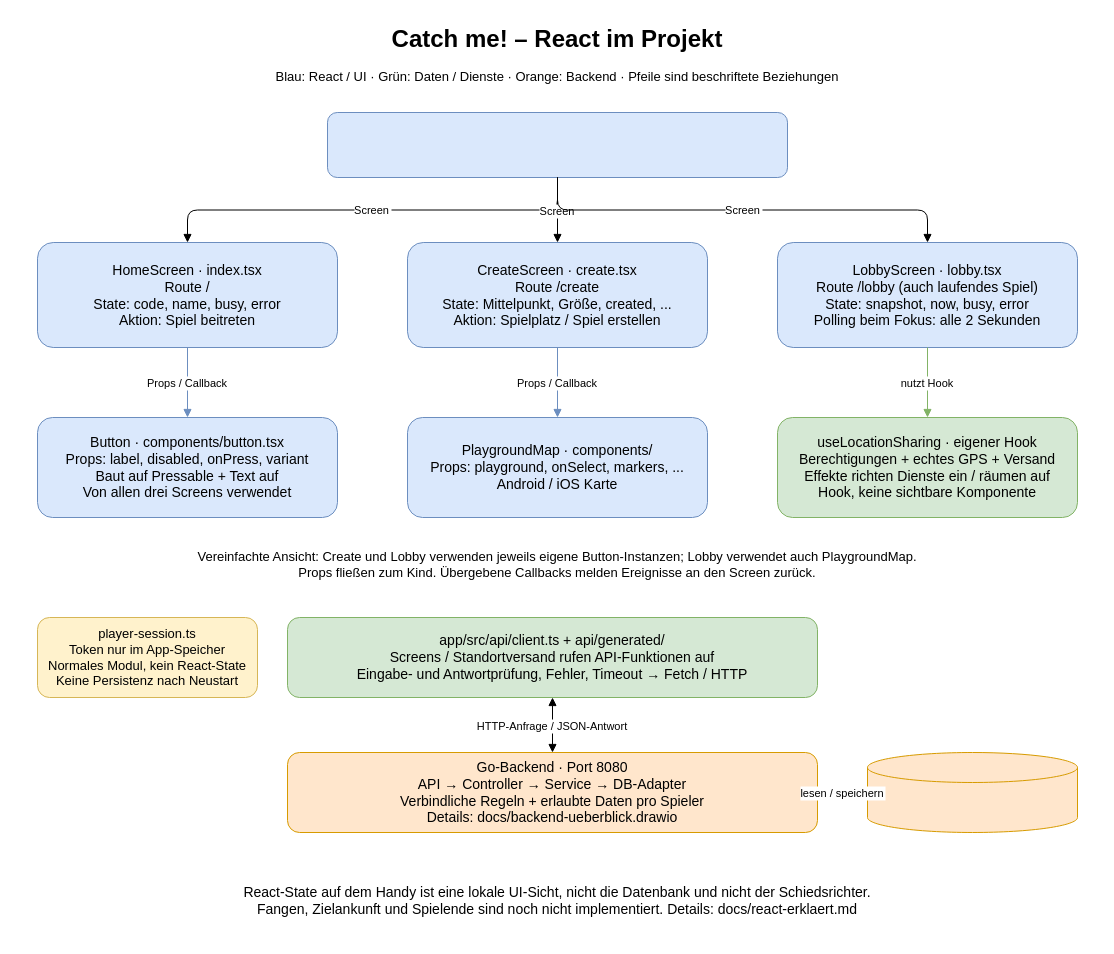
Image size: 1114x954. Some labels were removed from this diagram. The shapes that lost their labels are listed below. From the top down, each one's centre as x and y in pixels, then its label:
(x=557, y=145): RootLayout · app/src/app/_layout.tsx Expo Router Stack – verwaltet die Screens
(x=972, y=792): GORM / SQLite Persistenter Spielzustand
